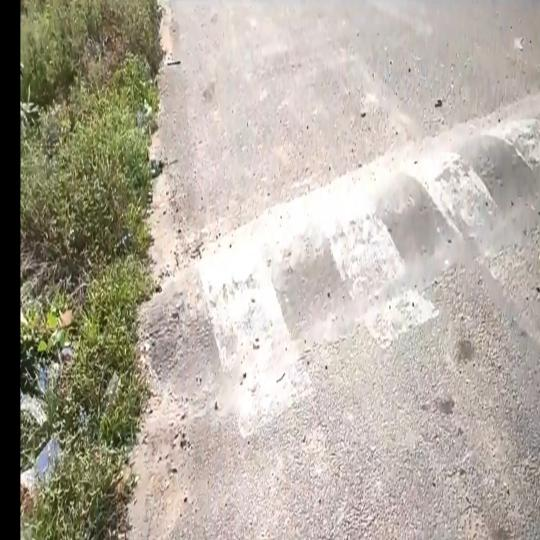Speed Bump: (144, 92, 540, 412)
